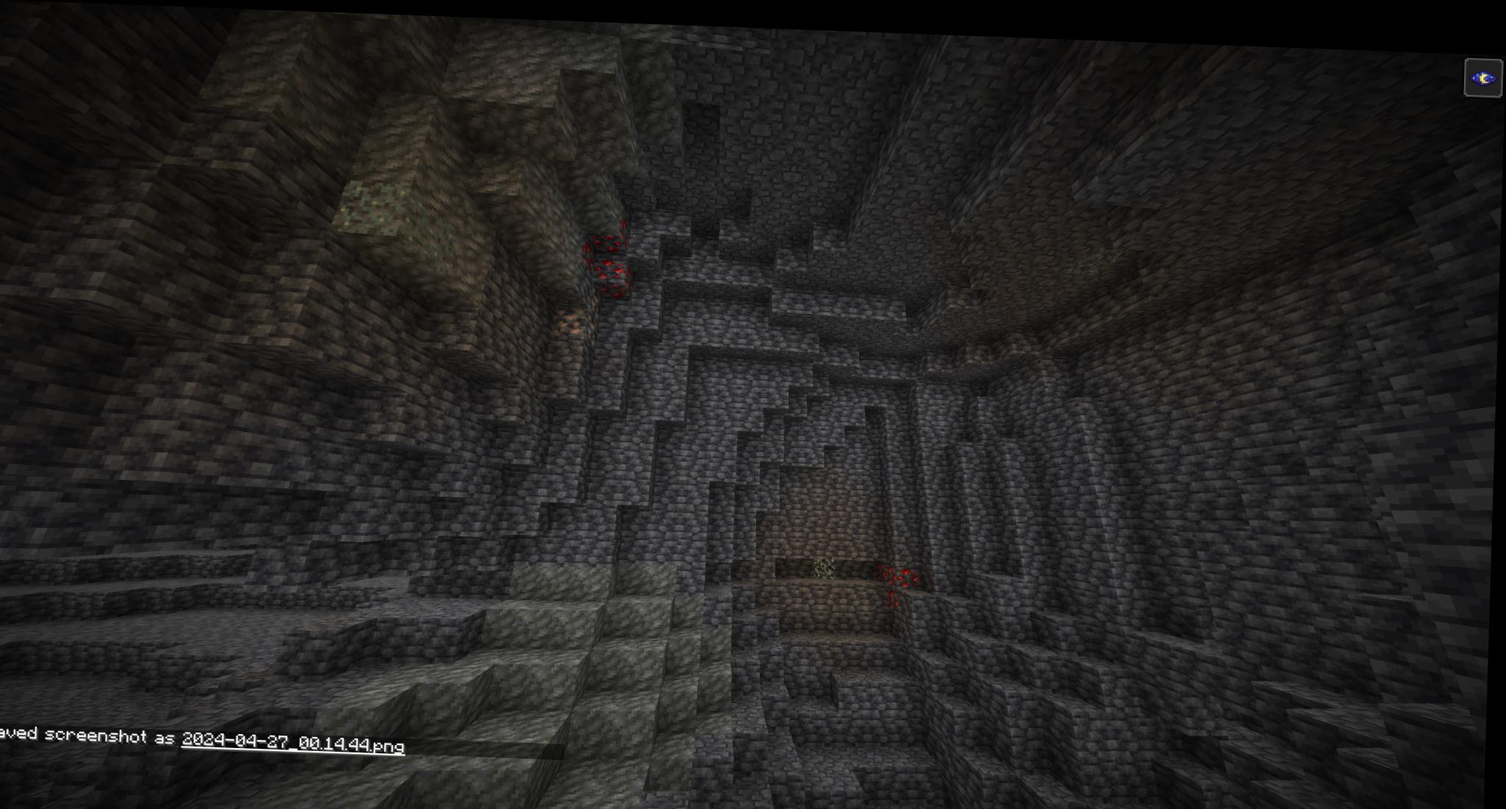iron ore: (542, 282, 606, 340)
redstone ore: (581, 213, 638, 291), (876, 553, 926, 596)
